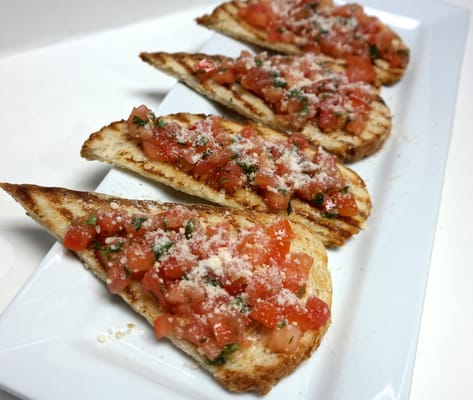sandwich: (5, 183, 337, 391), (78, 104, 374, 251), (138, 44, 397, 164), (194, 0, 413, 88)
